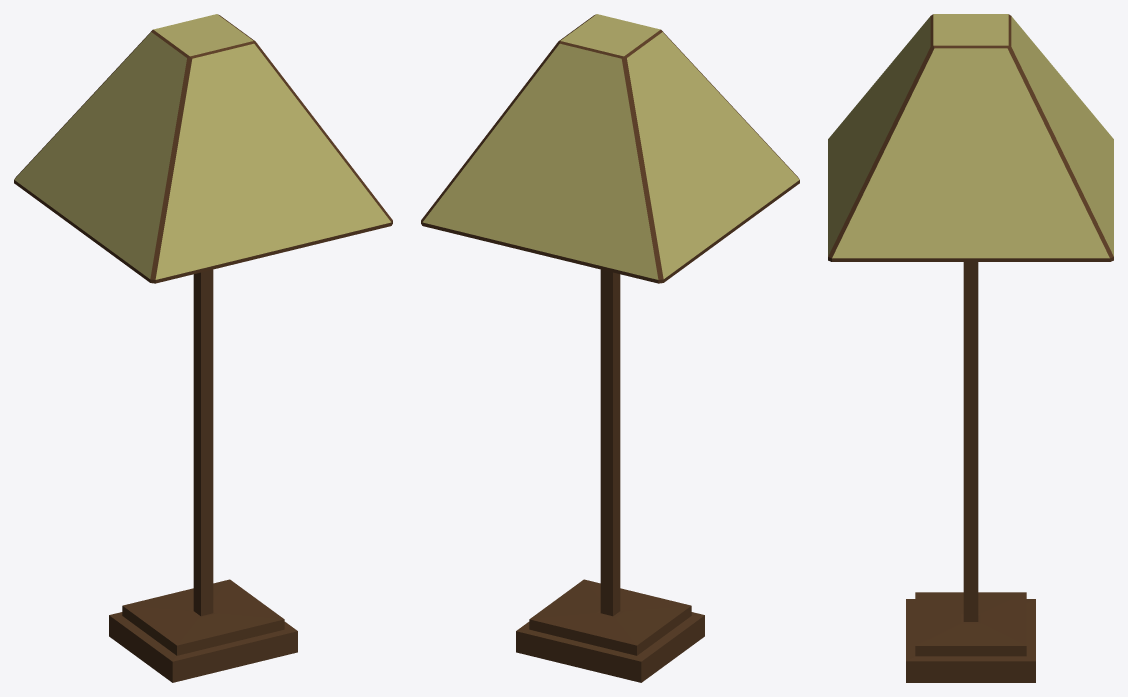
Rendered from TallLampOn 1.fbx.
3 views of the same model, side by side, from view 1: azimuth 30°, elevation 25°; view 2: azimuth 150°, elevation 25°; view 3: azimuth 270°, elevation 25° (orthographic). The views are drawn at different scales.
Parts seen in each view (by area): view 1: Cube.015, Cube.014, Cube.013; view 2: Cube.015, Cube.014, Cube.013; view 3: Cube.015, Cube.014, Cube.013.
Part boxes in pixels (box(x1,y1,x2,y2)): Cube.015: box(14, 14, 391, 279); Cube.014: box(109, 269, 297, 682); Cube.013: box(14, 14, 392, 283); Cube.015: box(422, 14, 799, 279); Cube.014: box(516, 269, 704, 682); Cube.013: box(421, 14, 799, 283); Cube.015: box(828, 14, 1113, 258); Cube.014: box(906, 262, 1035, 682); Cube.013: box(828, 14, 1113, 261).
Size of the model in its own units: 170 by 408 by 170.
